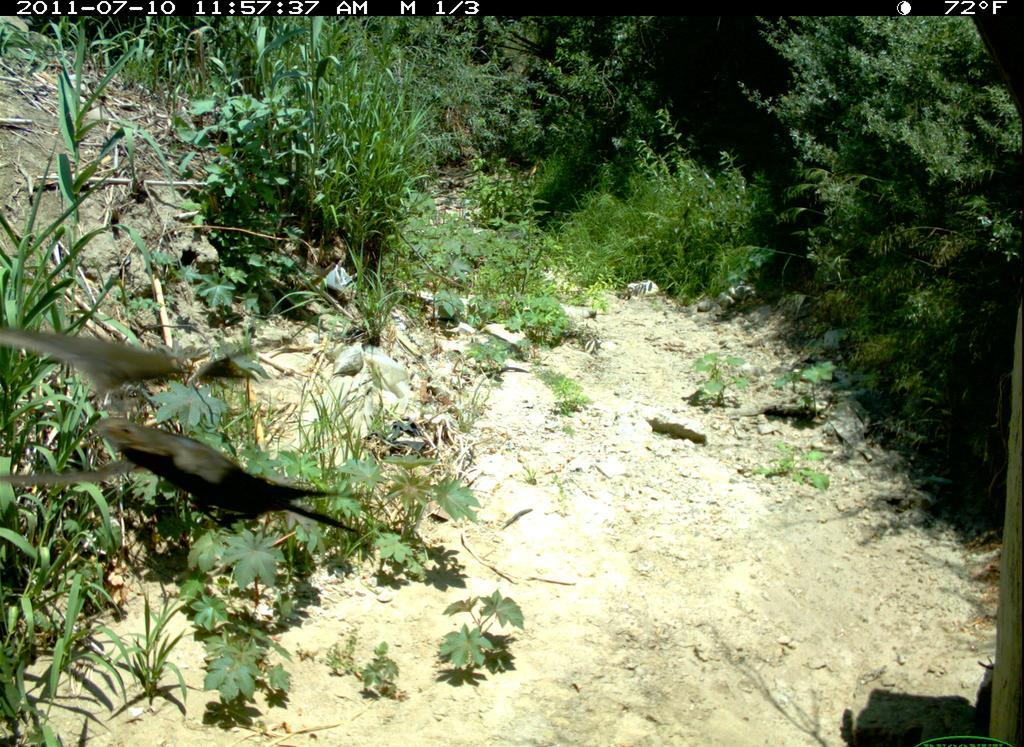bird: (3, 319, 386, 547)
